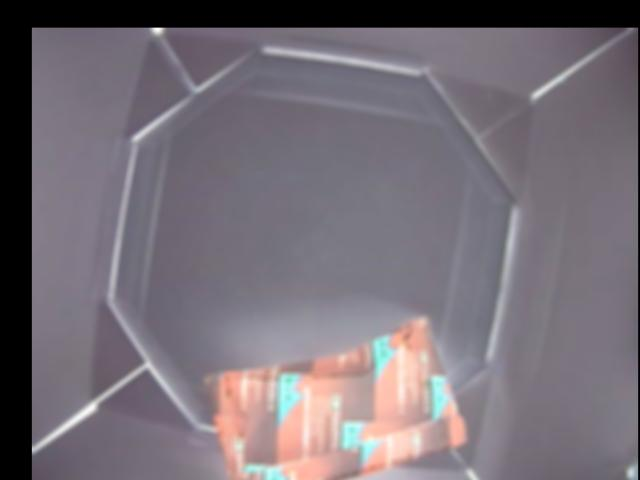Medicine: (204, 309, 464, 480)
